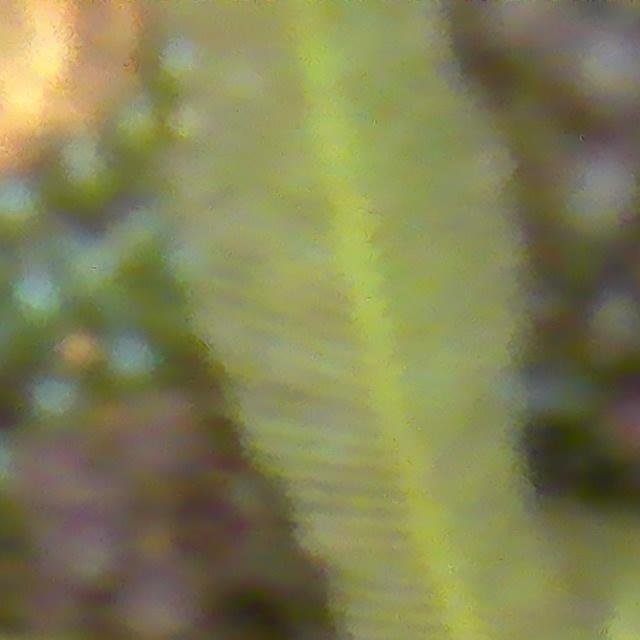SeaGrape: (539, 149, 640, 254), (541, 25, 640, 130), (45, 138, 125, 220), (5, 268, 69, 335), (108, 96, 163, 154), (100, 332, 156, 388), (0, 173, 48, 238), (29, 376, 83, 432)
